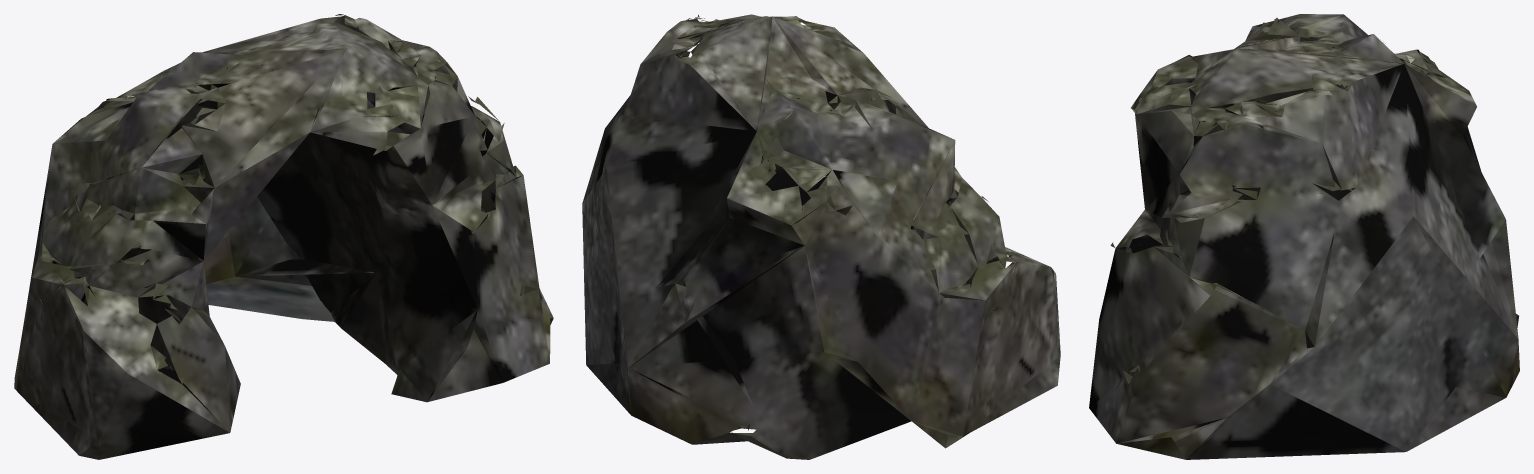
Rendered from cave-arch-lod1.glb.
3 views of the same model, side by side, from view 1: azimuth 30°, elevation 25°; view 2: azimuth 150°, elevation 25°; view 3: azimuth 270°, elevation 25° (orthographic). The views are drawn at different scales.
Visible parts, largest first — view 1: cave-arch-lod1; view 2: cave-arch-lod1; view 3: cave-arch-lod1.
Boxes of the visible parts, left/top/right/bottom form: cave-arch-lod1: left=14, top=14, right=553, bottom=459; cave-arch-lod1: left=582, top=14, right=1060, bottom=459; cave-arch-lod1: left=1089, top=14, right=1519, bottom=459.
Size of the model in its own units: 8.04 by 5.54 by 6.2.
1 material, 1 textured.
